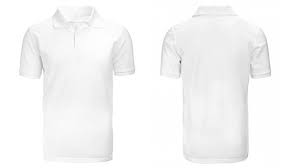C_polo shirt: (18, 11, 135, 168)
